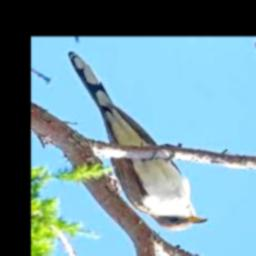Cuckoo: (67, 52, 206, 231)
